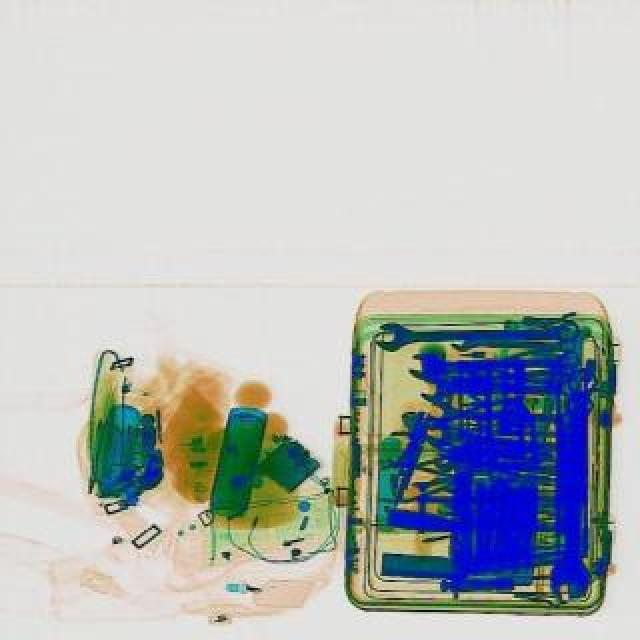scissors: (548, 392, 600, 600), (376, 318, 578, 352), (406, 346, 578, 382)
wrench: (380, 460, 476, 508), (386, 428, 470, 472)
